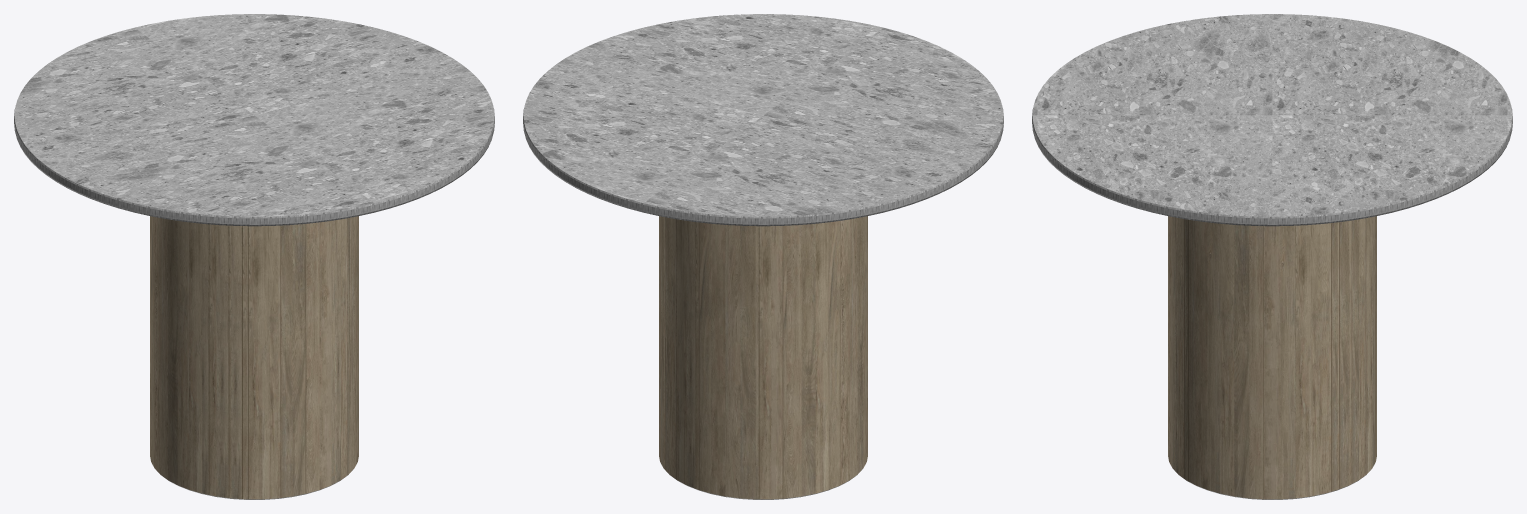
File: mesa_comedor.obj
The picture shows the model from 3 angles, left to right: view 1: azimuth 30°, elevation 25°; view 2: azimuth 150°, elevation 25°; view 3: azimuth 270°, elevation 25°; orthographic projection.
Parts seen in each view (by area): view 1: Mesh1 Group2 Group1 Model, Mesh2 Group2 Group1 Model; view 2: Mesh1 Group2 Group1 Model, Mesh2 Group2 Group1 Model; view 3: Mesh1 Group2 Group1 Model, Mesh2 Group2 Group1 Model.
Boxes of the visible parts, x1,y1,x2,y2 form: Mesh1 Group2 Group1 Model: [14, 14, 494, 226]; Mesh2 Group2 Group1 Model: [150, 216, 358, 499]; Mesh1 Group2 Group1 Model: [523, 14, 1003, 226]; Mesh2 Group2 Group1 Model: [659, 216, 867, 499]; Mesh1 Group2 Group1 Model: [1032, 14, 1512, 226]; Mesh2 Group2 Group1 Model: [1168, 216, 1376, 499].
Size of the model in its own units: 1.02 by 0.8004 by 1.02.
